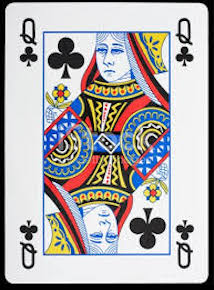QueenOfClubs: (2, 3, 211, 287)
